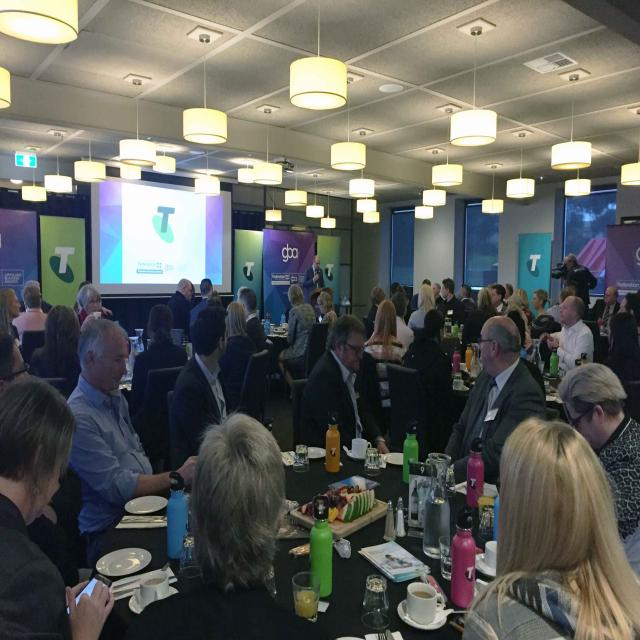body: (123, 409, 338, 640), (461, 415, 639, 638), (66, 316, 200, 570), (0, 372, 116, 640), (447, 315, 548, 485), (557, 362, 640, 540), (298, 313, 391, 456), (171, 302, 233, 466), (127, 302, 190, 420), (362, 299, 408, 435), (416, 310, 458, 454), (28, 304, 82, 400), (277, 283, 317, 404), (217, 301, 258, 417), (599, 312, 640, 421), (539, 295, 594, 371), (190, 278, 226, 356), (588, 284, 621, 366), (468, 286, 503, 360), (12, 282, 49, 346), (235, 286, 269, 354), (561, 252, 598, 310), (236, 287, 267, 353), (166, 278, 192, 343), (14, 279, 58, 317), (73, 284, 114, 324), (0, 286, 22, 353), (407, 283, 436, 332), (436, 278, 464, 328), (391, 292, 415, 350), (316, 290, 338, 352), (530, 288, 556, 339), (0, 331, 27, 379), (546, 286, 575, 330), (364, 286, 387, 341), (302, 255, 325, 305), (514, 288, 536, 327), (409, 278, 432, 314), (616, 292, 640, 319), (490, 284, 508, 316), (431, 282, 445, 310), (458, 283, 476, 304), (432, 282, 445, 310), (387, 281, 405, 301), (501, 280, 515, 304), (486, 282, 498, 290)
